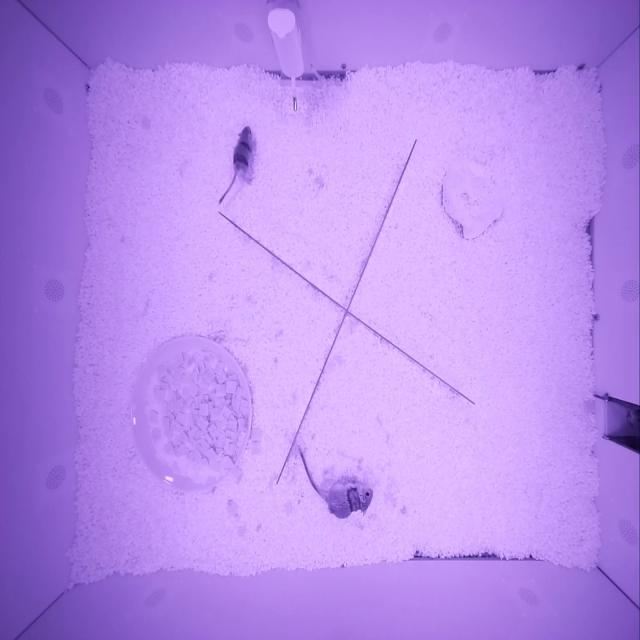adult_front: (328, 484, 375, 519)
pup_h_stripe: (231, 125, 254, 176)
